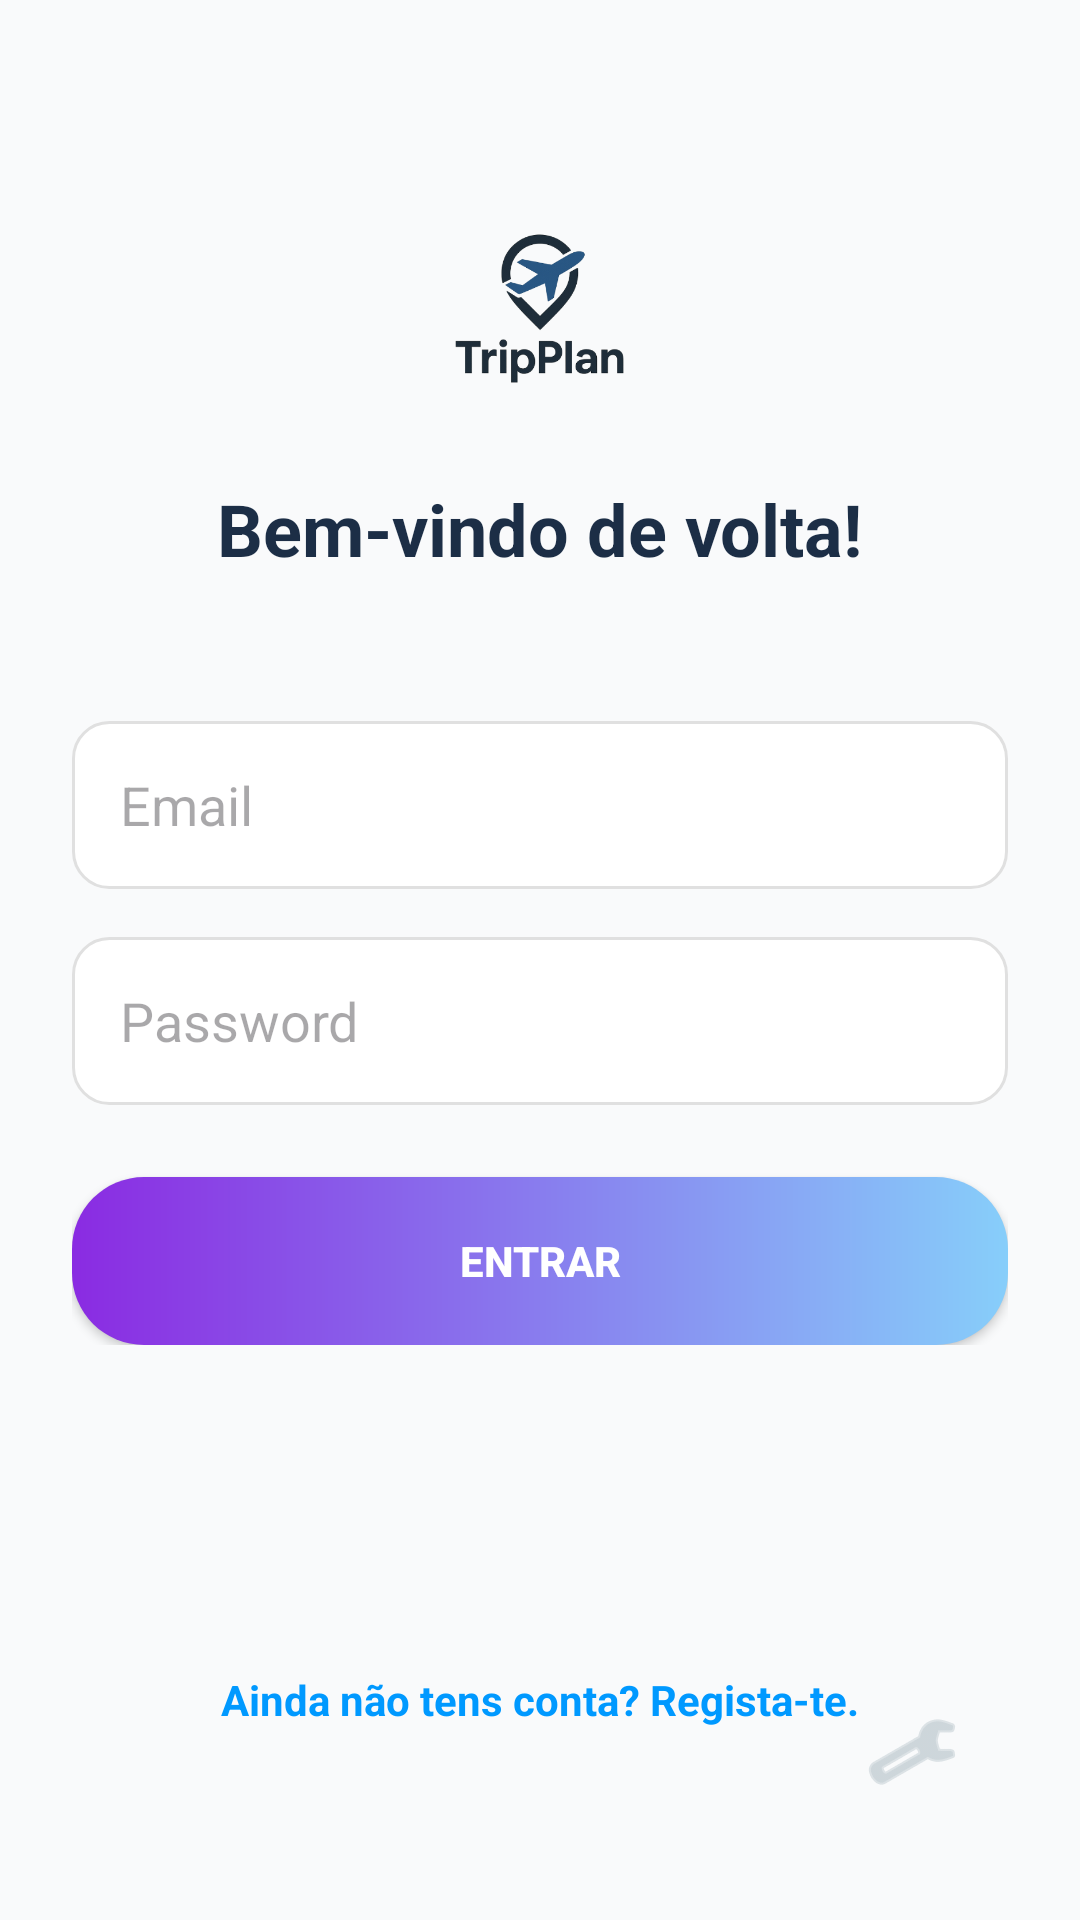

Icons on this 1080*1920 Android screen, each with its box as (x1, y1, x2, y2):
preferences: (869, 1720, 955, 1784)
